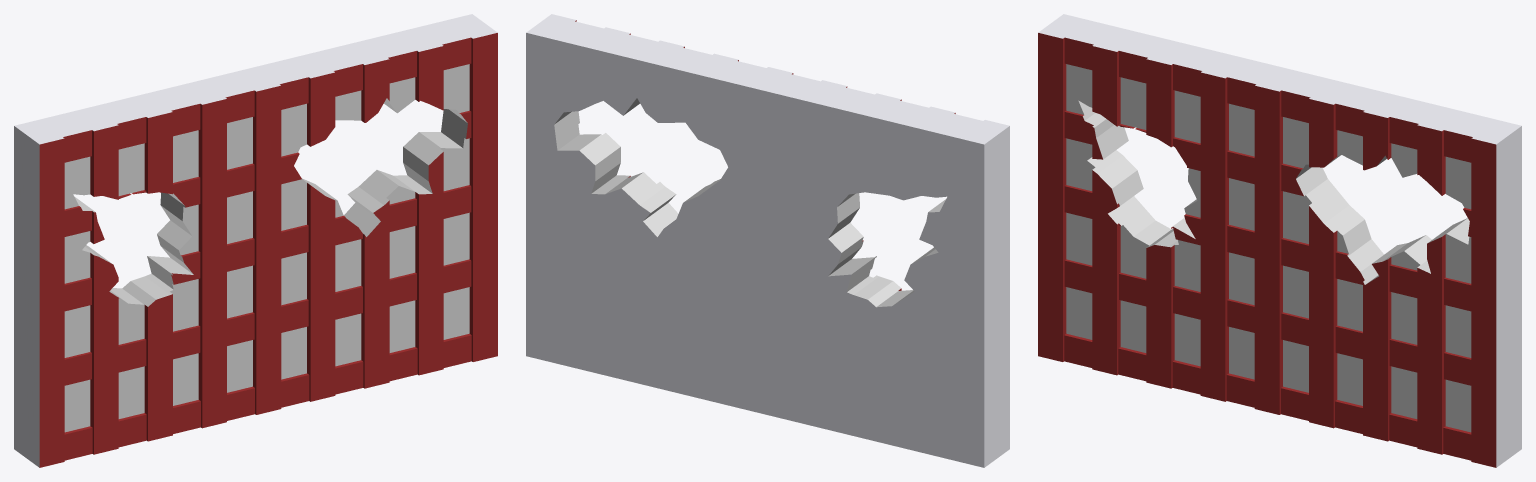
Rendered from Asian_Prop_Building_Modular_Wall_Lattice_Damaged_01.FBX.
3 renders of one model, left to right at view 1: azimuth 30°, elevation 25°; view 2: azimuth 150°, elevation 25°; view 3: azimuth 330°, elevation 25°, orthographic.
Visible parts, largest first — view 1: Asian_Prop_Building_Modular_Wall_Lattice_Damaged_01; view 2: Asian_Prop_Building_Modular_Wall_Lattice_Damaged_01; view 3: Asian_Prop_Building_Modular_Wall_Lattice_Damaged_01.
Boxes of the visible parts, <box> form: Asian_Prop_Building_Modular_Wall_Lattice_Damaged_01: <box>14,14,497,467</box>; Asian_Prop_Building_Modular_Wall_Lattice_Damaged_01: <box>526,14,1009,467</box>; Asian_Prop_Building_Modular_Wall_Lattice_Damaged_01: <box>1038,14,1521,467</box>.
Size of the model in its own units: 5167 by 3485 by 500.
